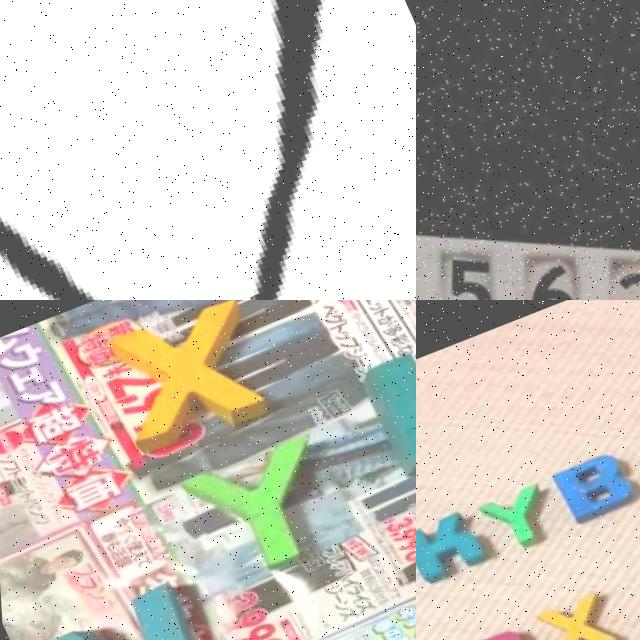2: (565, 236, 640, 300)
5: (416, 226, 526, 300)
6: (478, 229, 609, 300)
B: (547, 446, 640, 526)
K: (361, 320, 416, 478), (416, 509, 487, 585)
V: (0, 0, 416, 300), (23, 582, 217, 640)
X: (94, 300, 276, 459), (531, 589, 621, 640)
Y: (176, 429, 360, 588), (479, 480, 563, 556)
